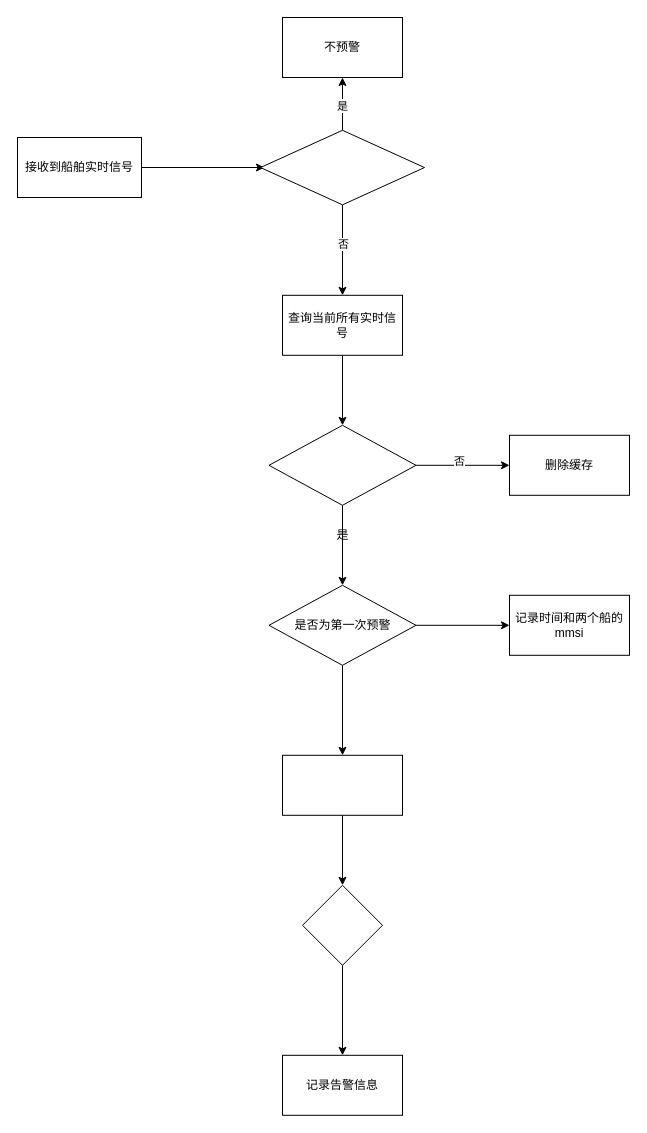
The diagram is 647 pixels wide and 1133 high, and some of its shapes have lost their labels. Each missing label, with the centre of its shape:
大于配置的时间: (342,924)
对比当前距离是否小于 等于配置的距离: (342,464)
是否进入九江区 域和 一些指定区域和已经审 批的订单: (342,167)
计算第一次和本次相隔时间: (342,784)
